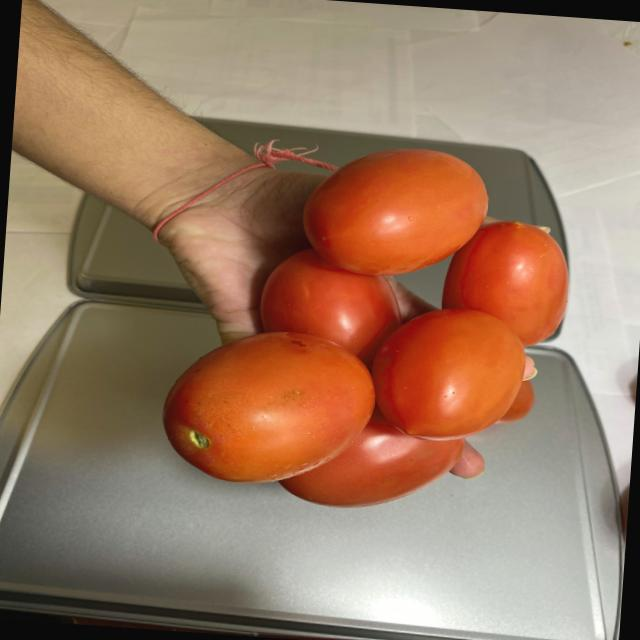tomato: (156, 134, 572, 526)
